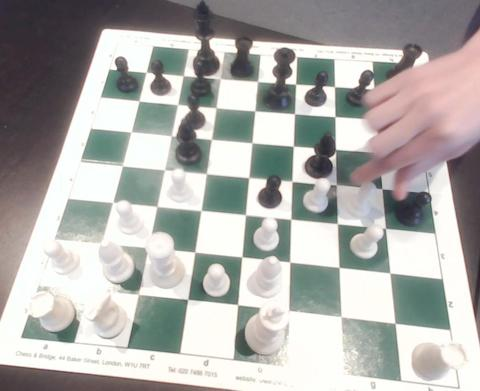xcorner: (139, 63, 154, 78), (131, 92, 146, 107), (123, 123, 138, 138), (114, 157, 129, 172), (103, 195, 118, 210), (92, 237, 107, 252), (80, 283, 95, 298), (176, 66, 191, 81), (170, 95, 185, 110), (164, 126, 179, 141), (156, 161, 171, 176), (148, 199, 163, 214), (139, 241, 154, 256), (130, 289, 145, 304), (214, 69, 229, 84), (210, 98, 225, 113), (205, 130, 220, 145), (200, 165, 215, 180), (194, 203, 209, 218), (187, 246, 202, 261), (180, 294, 195, 309), (252, 72, 267, 87), (250, 101, 265, 116), (247, 134, 262, 149), (243, 169, 258, 184), (240, 208, 255, 223), (236, 251, 251, 266), (231, 299, 246, 314), (291, 75, 306, 90), (290, 105, 305, 120), (289, 137, 304, 152), (288, 173, 303, 188), (286, 212, 301, 227), (285, 256, 300, 271), (283, 305, 298, 320), (330, 78, 345, 93), (330, 108, 345, 123), (331, 141, 346, 156), (332, 177, 347, 192), (333, 217, 348, 232), (335, 261, 350, 276), (336, 311, 351, 326), (369, 81, 384, 96), (372, 111, 387, 126), (374, 144, 389, 159), (378, 181, 393, 196), (381, 221, 396, 236), (385, 266, 400, 281), (389, 316, 404, 331)
